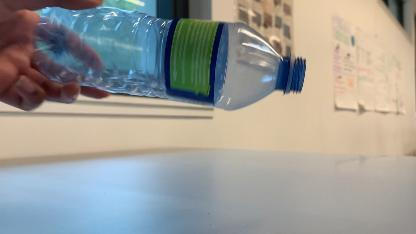Plastic Bottle: (34, 6, 306, 112)
